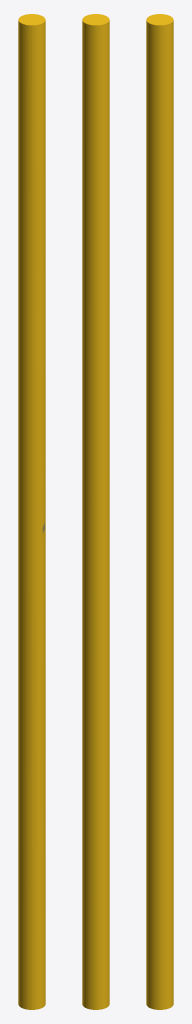
File: CanoDrones.glb
The picture shows the model from 3 angles, left to right: view 1: azimuth 90°, elevation 25°; view 2: azimuth 150°, elevation 25°; view 3: azimuth 270°, elevation 25°; orthographic projection.
Visible parts, largest first — view 1: node_id3; view 2: node_id3; view 3: node_id3.
Boxes of the visible parts, x1,y1,x2,y2 form: node_id3: (18, 14, 45, 1009); node_id3: (82, 14, 109, 1009); node_id3: (146, 14, 173, 1009).
Bounding box in the file's own units: 0.0128 × 0.512 × 0.0128.
1 material, 1 textured.
